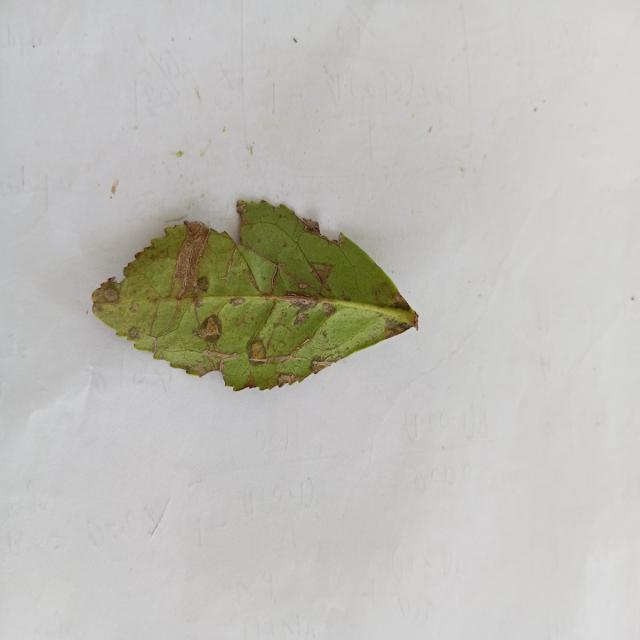leaf_spot: (93, 201, 417, 389)
